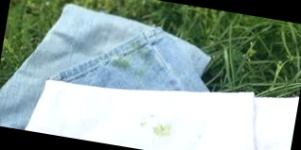earth: (140, 119, 172, 139), (130, 42, 152, 60), (110, 57, 129, 72)
